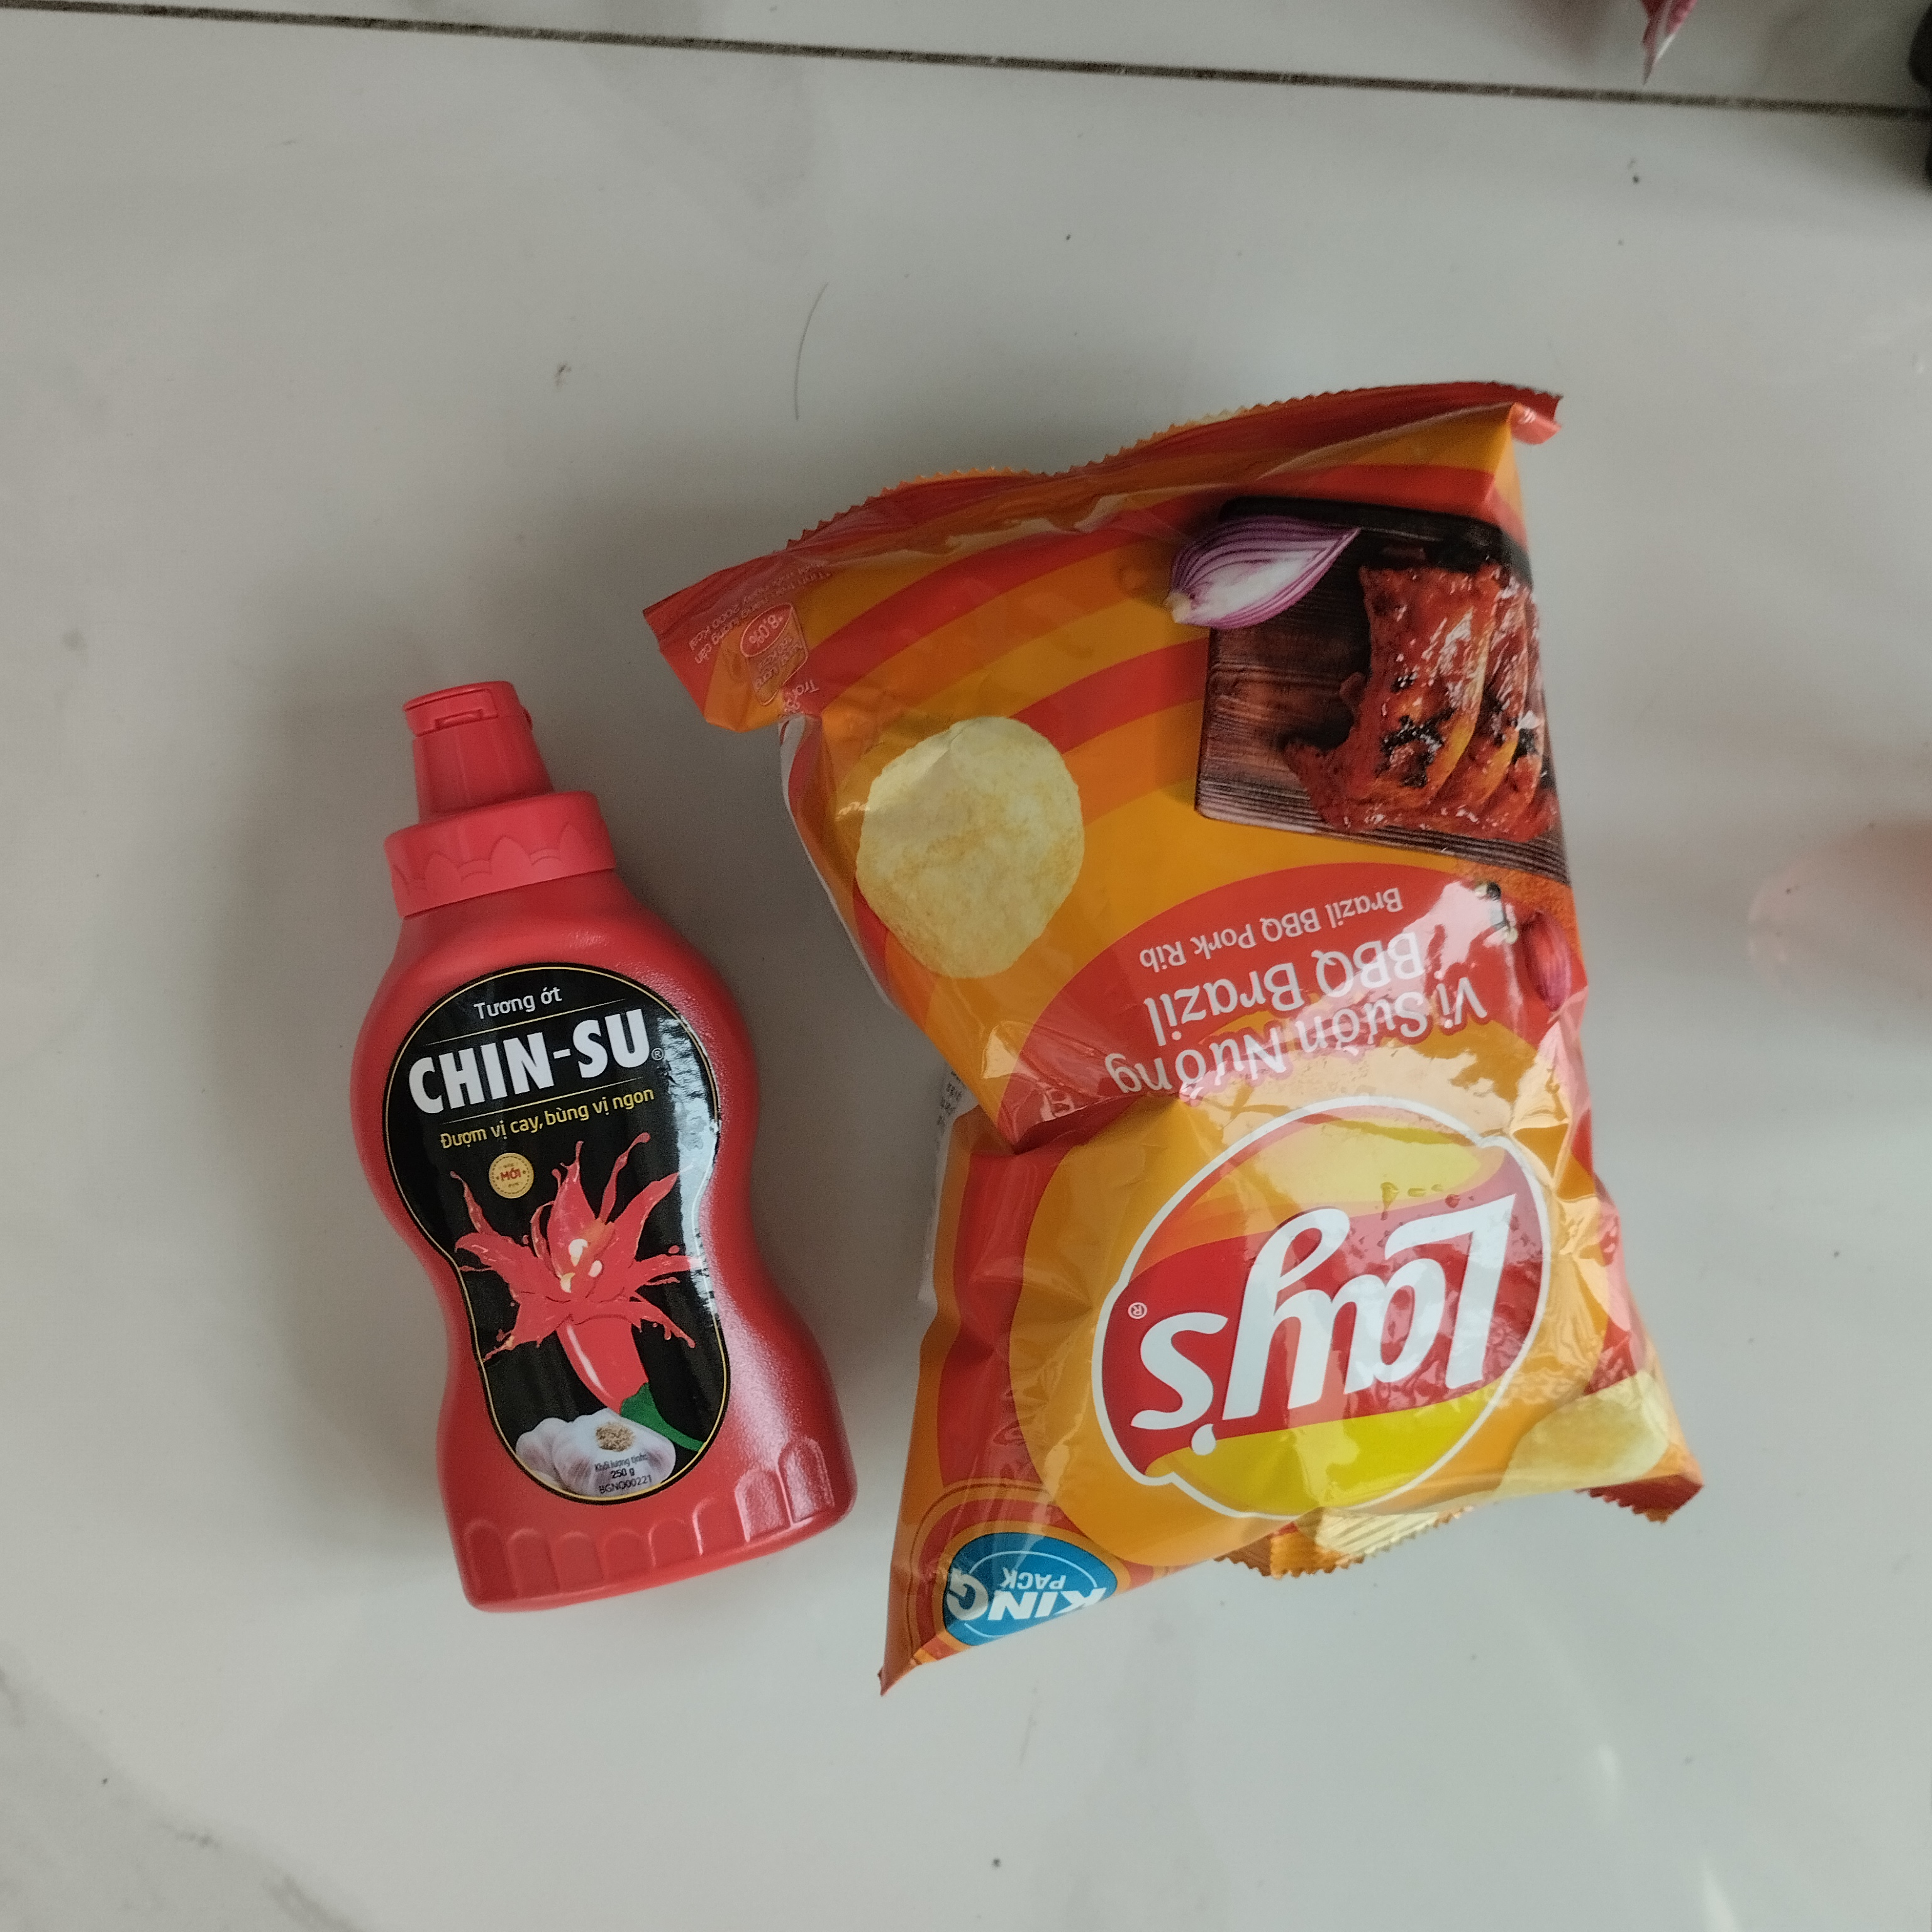Chinsu: (327, 669, 863, 1631)
Lays: (621, 366, 1723, 1706)
